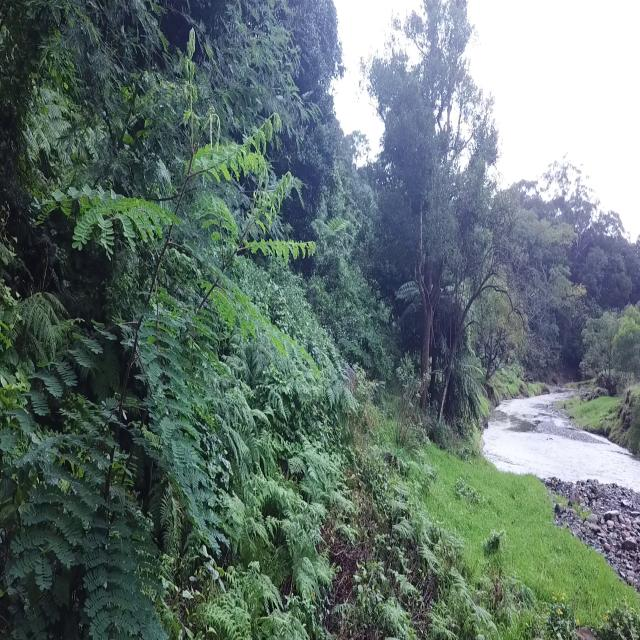Mysore-Thorn-Weed: (0, 25, 305, 640)
